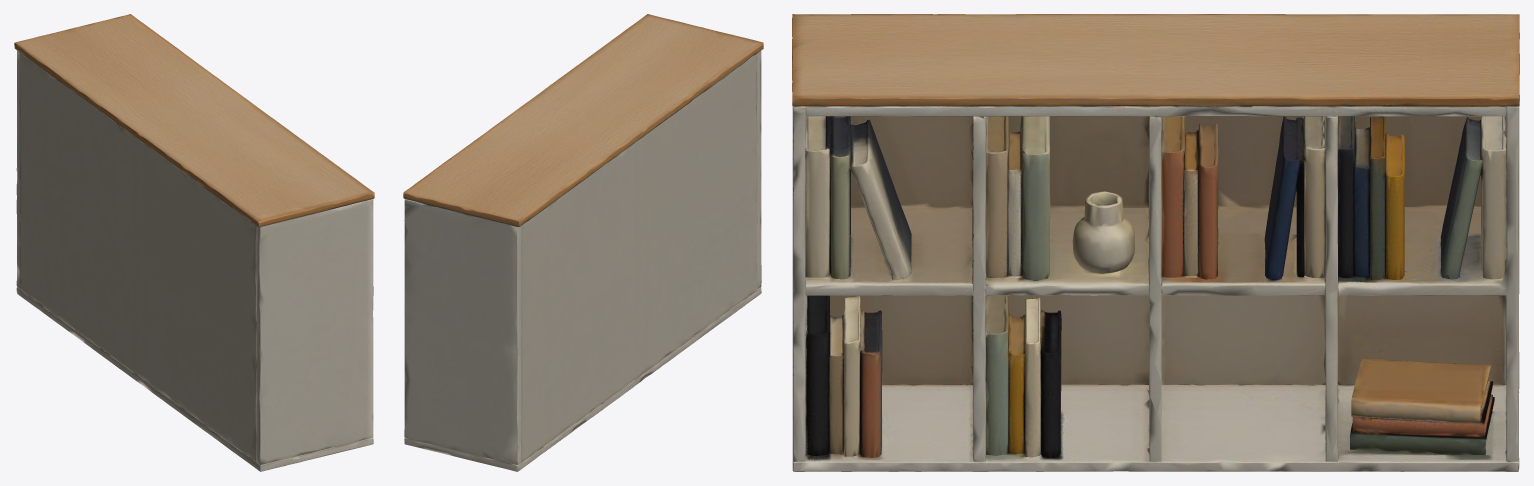
Rendered from bookshelf-tripo.glb.
3 views of the same model, side by side, from view 1: azimuth 30°, elevation 25°; view 2: azimuth 150°, elevation 25°; view 3: azimuth 270°, elevation 25° (orthographic). The views are drawn at different scales.
Parts seen in each view (by area): view 1: tripo_node_b1af76c3-0702-4180-9531-2c49c5f966a0; view 2: tripo_node_b1af76c3-0702-4180-9531-2c49c5f966a0; view 3: tripo_node_b1af76c3-0702-4180-9531-2c49c5f966a0.
Part boxes in pixels (<box>): tripo_node_b1af76c3-0702-4180-9531-2c49c5f966a0: <box>14,14,374,471</box>; tripo_node_b1af76c3-0702-4180-9531-2c49c5f966a0: <box>403,14,763,471</box>; tripo_node_b1af76c3-0702-4180-9531-2c49c5f966a0: <box>792,14,1519,471</box>.
Size of the model in its own units: 0.2698 by 0.5564 by 0.9784.
Materials: 1 (1 with a texture image).
